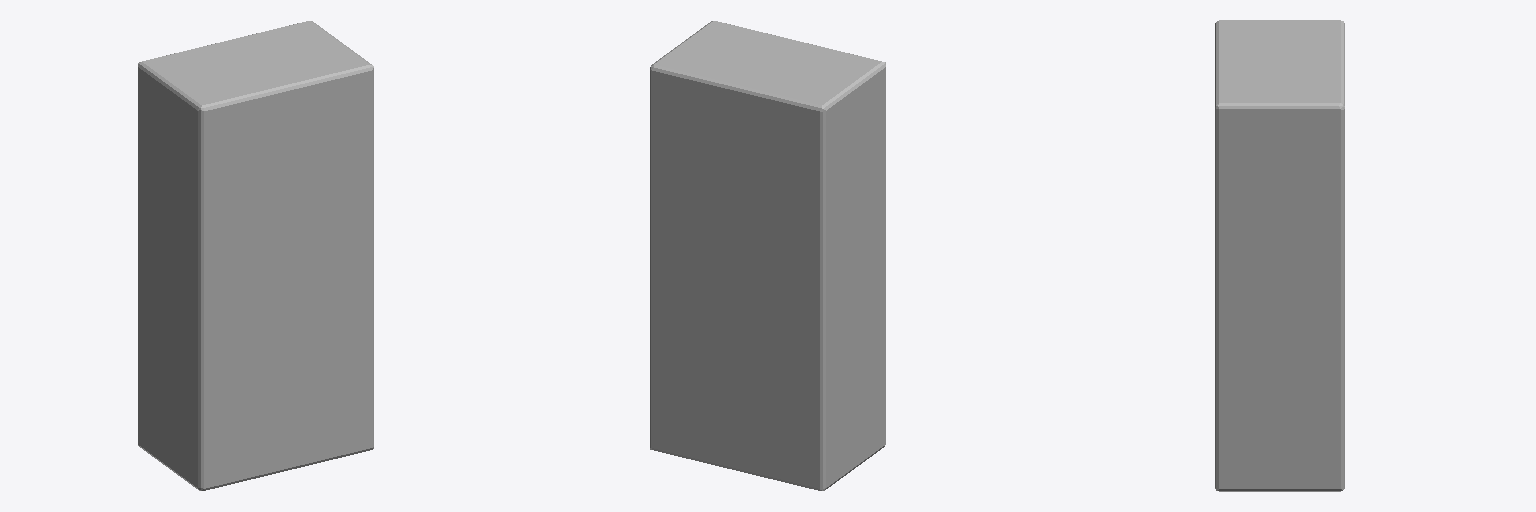
The robot description file, URDF, robot "root":
<?xml version="1.0"?>
<robot name="root">
  <link name="base_link">
    <visual>
      <origin xyz="0 0 0" rpy="0 0 0" />
      <geometry>
        <mesh filename="../meshes/unidex_sem_MilkCarton-fce427271b63011bfefca37858a6cef8_010.obj" scale="1.0000E+00 1.0000E+00 1.0000E+00" />
      </geometry>
      <material name="">
        <color rgba="7.50E-01 7.50E-01 7.50E-01 1" />
      </material>
    </visual>
    <collision>
      <origin xyz="0 0 0" rpy="0 0 0" />
      <geometry>
        <mesh filename="../meshes/unidex_sem_MilkCarton-fce427271b63011bfefca37858a6cef8_010.obj" scale="1.0000E+00 1.0000E+00 1.0000E+00" />
      </geometry>
    </collision>
  </link>
</robot>

--- Facts derived from the render (not from the file) ---
The picture shows the robot from 3 angles, left to right: view 1: azimuth 30°, elevation 25°; view 2: azimuth 150°, elevation 25°; view 3: azimuth 270°, elevation 25°; orthographic projection.
Robot: root — 1 links, 0 joints (none); root link base_link; default pose: all joints at 0.
Visible links, largest first — view 1: base_link; view 2: base_link; view 3: base_link.
Link boxes in pixels (<box>): base_link: <box>138,21,373,490</box>; base_link: <box>650,21,885,490</box>; base_link: <box>1215,20,1344,491</box>.
Size in the robot's own frame: 0.0819 by 0.0521 by 0.1713 metres.
Meshes: 1 distinct files referenced, 1 mesh visuals loaded (1 OBJ).
